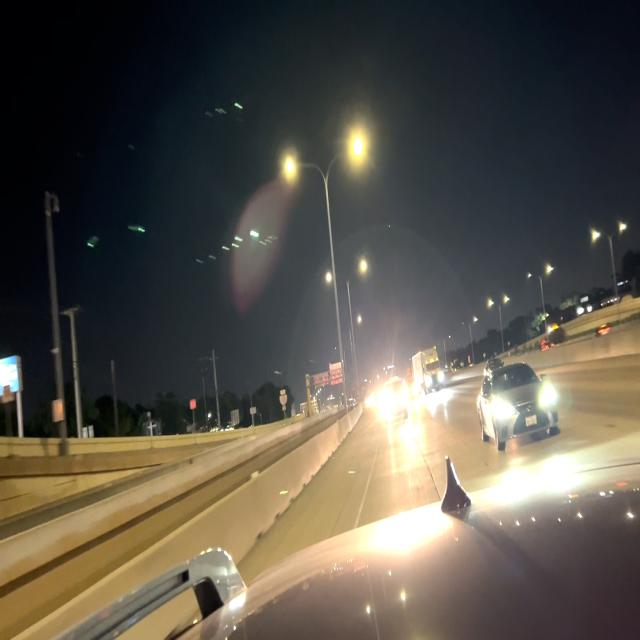back-of-sign: (314, 363, 343, 390)
